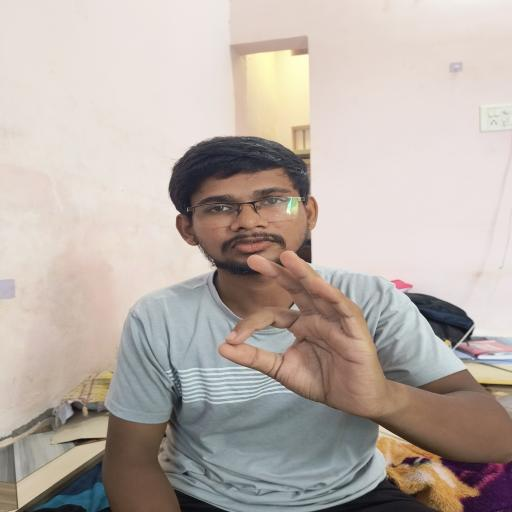Previous: (200, 247, 410, 427)
